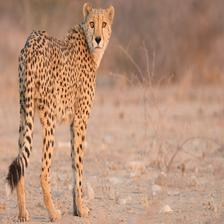Cheetah: (0, 2, 114, 220)
